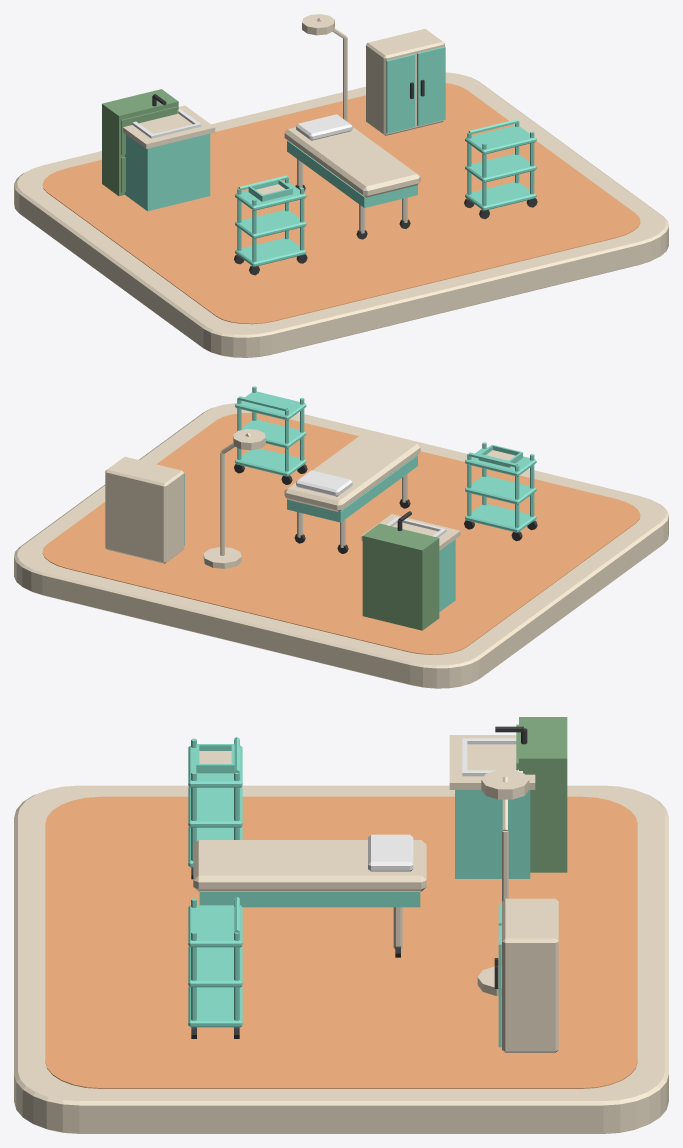
Rendered from room.fbx.
3 renders of one model, top to bottom at view 1: azimuth 30°, elevation 25°; view 2: azimuth 150°, elevation 25°; view 3: azimuth 270°, elevation 25°, orthographic. The views are drawn at different scales.
Visible parts, largest first — view 1: COM-02 Floor Surface, COM-01 Rounded Base Direct, Cabinet, Mattress, Cabinet.001, Equipment case, Door.001, Door, Counter, Tray.005, Tray.004, Tray (+7 smaller); view 2: COM-02 Floor Surface, COM-01 Rounded Base Direct, Equipment case, Cabinet.001, Mattress, Tray.001, Tray, Tray.003, Base, Tray.005, Cabinet, Pillow (+7 smaller); view 3: COM-02 Floor Surface, COM-01 Rounded Base Direct, Mattress, Equipment case, Cabinet.001, Cabinet, Counter, Base, Tray.005, Tray.003, Tray.004, Tray.001 (+5 smaller).
Boxes of the visible parts, <box> form: COM-02 Floor Surface: <box>42,83,640,324</box>; COM-01 Rounded Base Direct: <box>14,72,668,357</box>; Cabinet: <box>125,133,210,211</box>; Mattress: <box>284,127,420,197</box>; Cabinet.001: <box>102,89,178,196</box>; Equipment case: <box>366,28,444,135</box>; Door.001: <box>417,46,445,126</box>; Door: <box>386,54,414,133</box>; Counter: <box>123,105,215,148</box>; Tray.005: <box>465,125,536,154</box>; Tray.004: <box>465,153,536,182</box>; Tray: <box>235,238,306,266</box>; COM-02 Floor Surface: <box>42,413,640,654</box>; COM-01 Rounded Base Direct: <box>14,403,668,688</box>; Equipment case: <box>105,456,184,563</box>; Cabinet.001: <box>362,523,439,630</box>; Mattress: <box>284,431,420,511</box>; Tray.001: <box>465,475,536,504</box>; Tray: <box>465,504,536,532</box>; Tray.003: <box>235,448,306,476</box>; Base: <box>287,458,417,522</box>; Tray.005: <box>235,391,306,420</box>; Cabinet: <box>439,539,455,611</box>; Pillow: <box>296,470,352,496</box>; COM-02 Floor Surface: <box>45,796,637,1088</box>; COM-01 Rounded Base Direct: <box>14,785,668,1133</box>; Mattress: <box>193,840,426,891</box>; Equipment case: <box>502,898,558,1052</box>; Cabinet.001: <box>516,717,567,872</box>; Cabinet: <box>455,790,530,878</box>; Counter: <box>449,735,535,789</box>; Base: <box>199,896,420,907</box>; Tray.005: <box>188,905,242,947</box>; Tray.003: <box>188,986,242,1027</box>; Tray.004: <box>188,946,242,987</box>; Tray.001: <box>188,787,242,827</box>.
Size of the model in its own units: 600 by 196 by 520.
